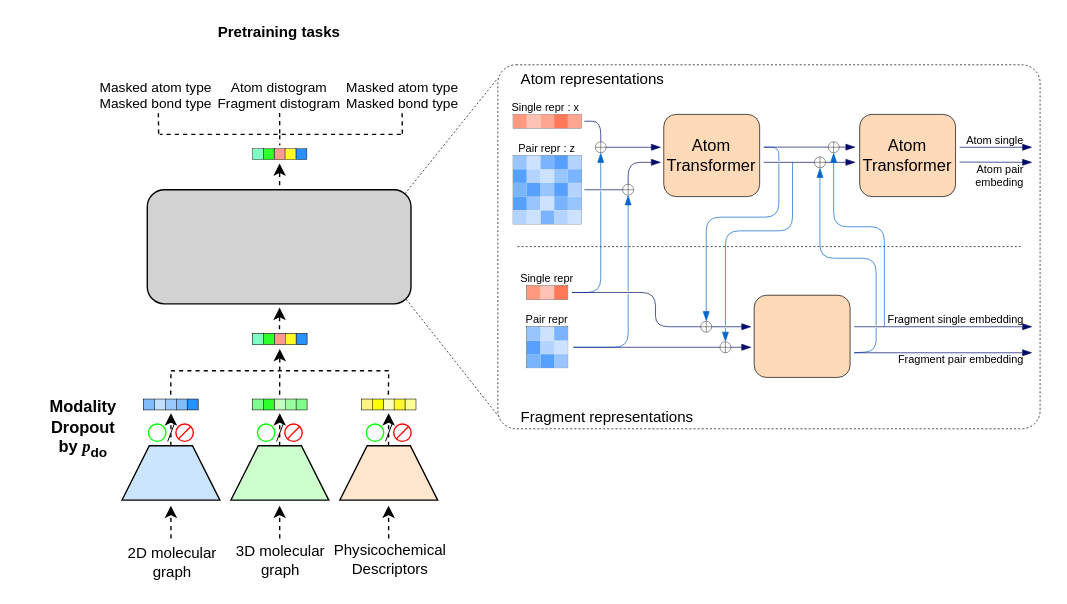
Image size: 1067x604. Some labels were removed from this diagram. The shapes that lost their labels are listed below. From the top down, each one's box as (x1, y1, x2, y2) in pixels, then its label:
(146, 188, 411, 304): Main Encoder
(753, 294, 850, 377): Frag Transformer
